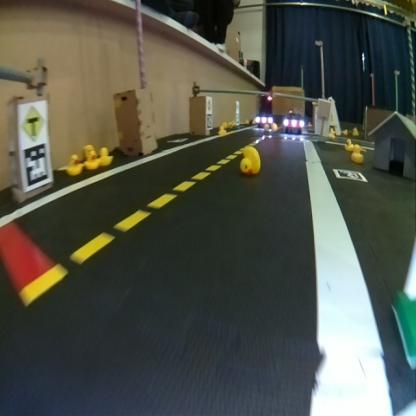Duckie: (240, 146, 260, 173), (100, 146, 112, 166), (68, 154, 80, 172), (85, 151, 98, 167), (352, 145, 362, 162), (83, 144, 94, 156), (344, 139, 352, 148), (218, 125, 223, 133), (329, 130, 334, 137)
Duckiebot: (284, 114, 302, 132), (255, 112, 273, 126)
Intersection sign: (18, 104, 46, 140)
QR code: (23, 142, 49, 186), (334, 168, 365, 180), (206, 114, 213, 128)
Traffic light: (268, 94, 272, 99)
